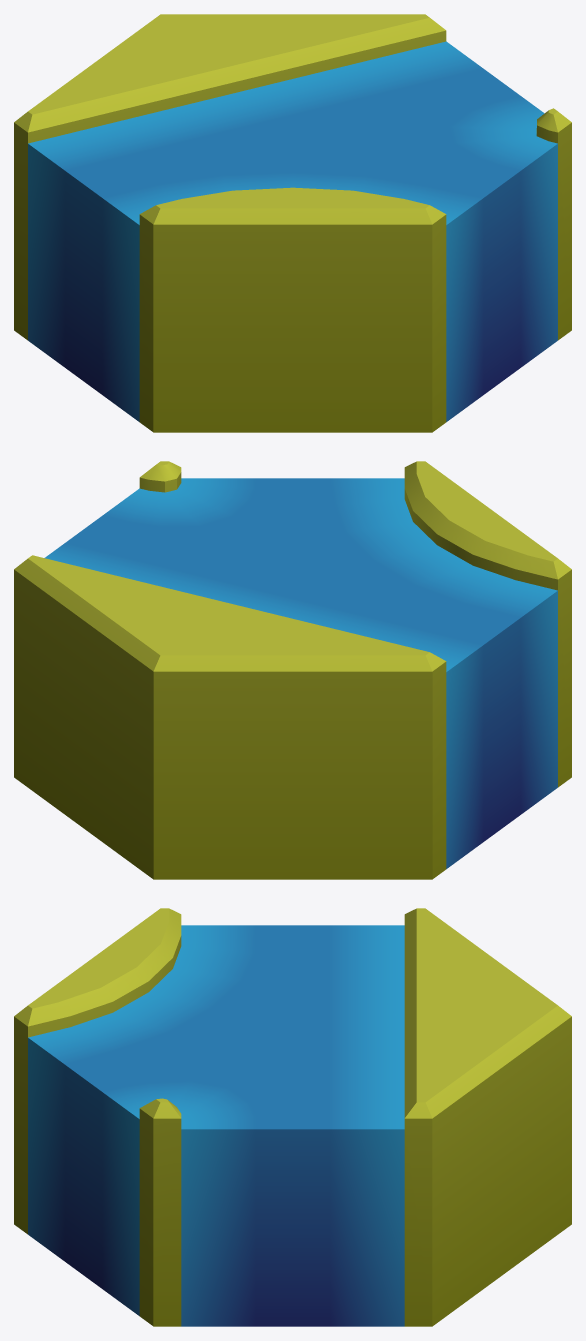
The model's file is hex_river_F.glb.
3 renders of one model, top to bottom at view 1: azimuth 30°, elevation 25°; view 2: azimuth 150°, elevation 25°; view 3: azimuth 270°, elevation 25°, orthographic.
Parts seen in each view (by area): view 1: hex_river_F; view 2: hex_river_F; view 3: hex_river_F.
Part boxes in pixels (left/top/right/bottom): hex_river_F: left=14, top=14, right=571, bottom=432; hex_river_F: left=14, top=461, right=571, bottom=879; hex_river_F: left=14, top=908, right=571, bottom=1326.
Bounding box in the file's own units: 2 × 1 × 2.31.
1 material, 1 textured.
